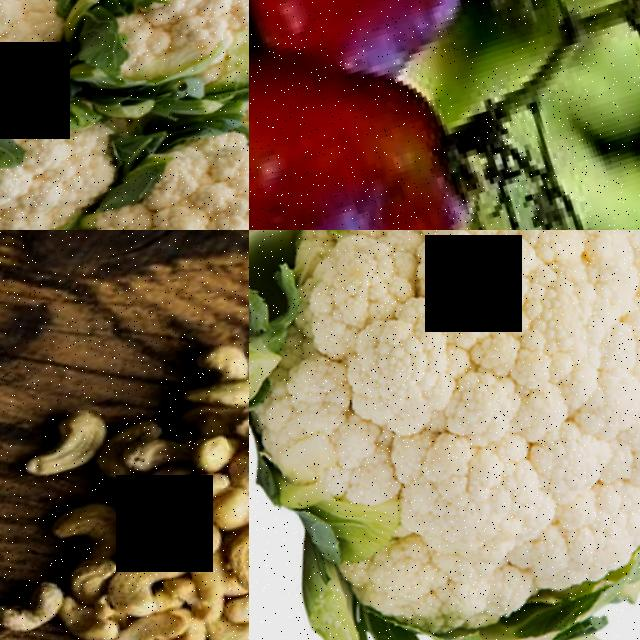cashew: (2, 409, 105, 495), (171, 333, 249, 396), (147, 517, 212, 580), (173, 439, 234, 482), (193, 380, 249, 424)
cauliflower: (249, 230, 640, 640), (53, 0, 249, 162), (0, 71, 147, 230), (64, 120, 249, 230)
